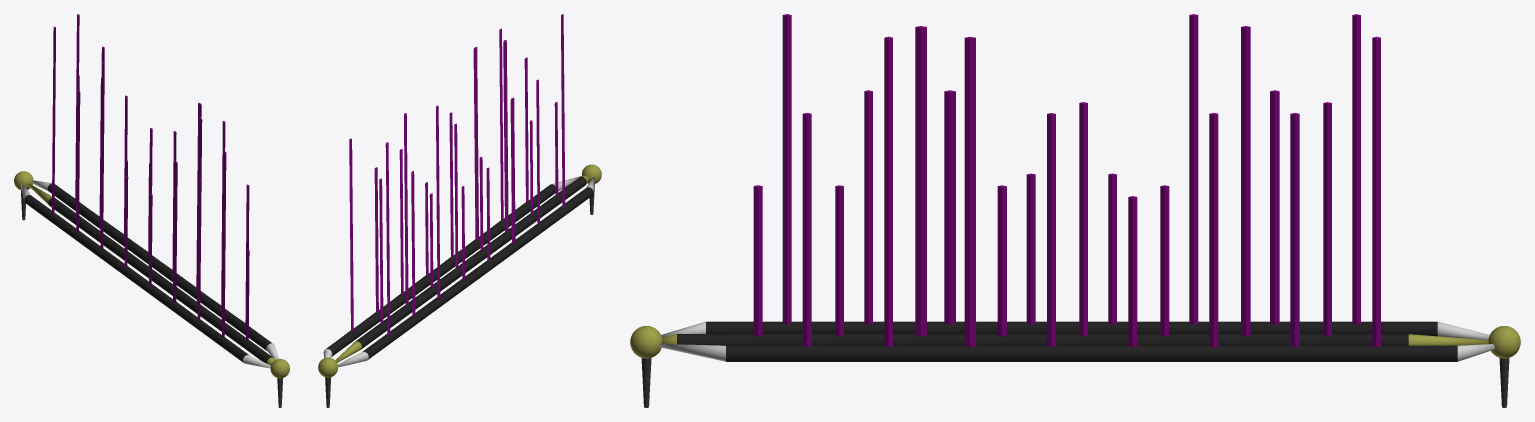
File: Artpiece_hangingpiece_CPG3.obj
3 views of the same model, side by side, from view 1: azimuth 30°, elevation 25°; view 2: azimuth 150°, elevation 25°; view 3: azimuth 270°, elevation 25° (orthographic). The views are drawn at different scales.
Visible parts, largest first — view 1: boltconnector2; view 2: boltconnector2; view 3: boltconnector2.
Part boxes in pixels (x1,y1,x2,y2): boltconnector2: (14,14,289,407); boltconnector2: (318,14,601,407); boltconnector2: (630,14,1520,407).
Bounding box in the file's own units: 9 × 52.04 × 110.
